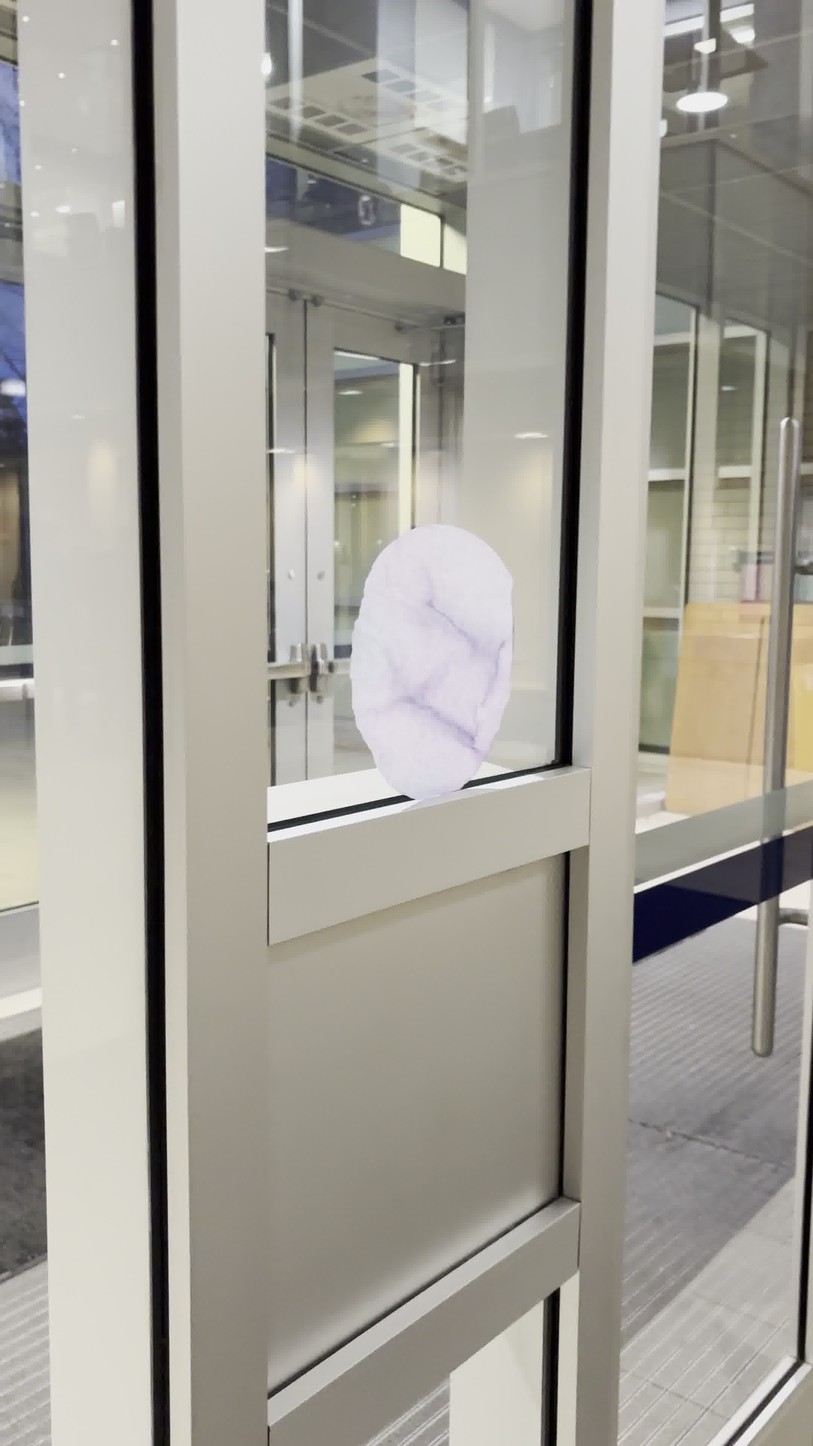Target: (350, 525, 514, 799)
